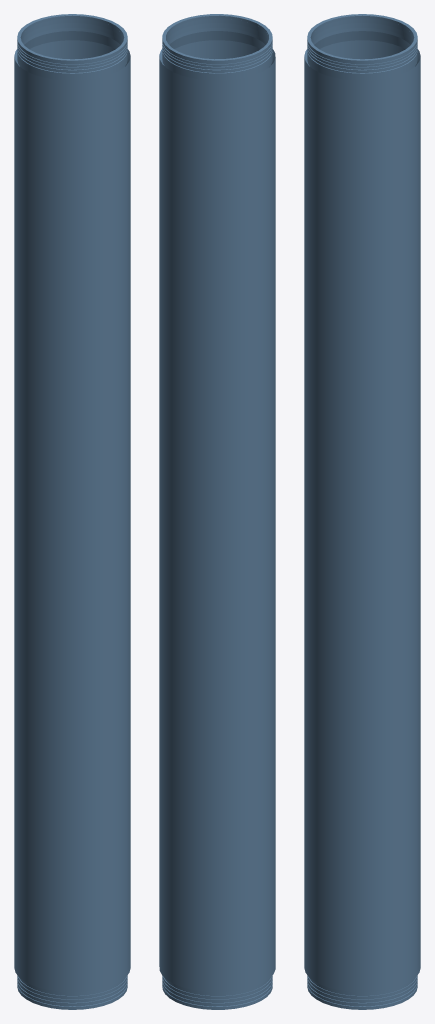
The model's file is Pipe.fbx.
3 views of the same model, side by side, from view 1: azimuth 90°, elevation 25°; view 2: azimuth 210°, elevation 25°; view 3: azimuth 270°, elevation 25° (orthographic).
Visible parts, largest first — view 1: Cylinder; view 2: Cylinder; view 3: Cylinder.
Part boxes in pixels (x1,y1,x2,y2): Cylinder: (14, 14, 130, 1009); Cylinder: (159, 14, 275, 1009); Cylinder: (304, 14, 420, 1009).
Bounding box in the file's own units: 100 × 900 × 100.
